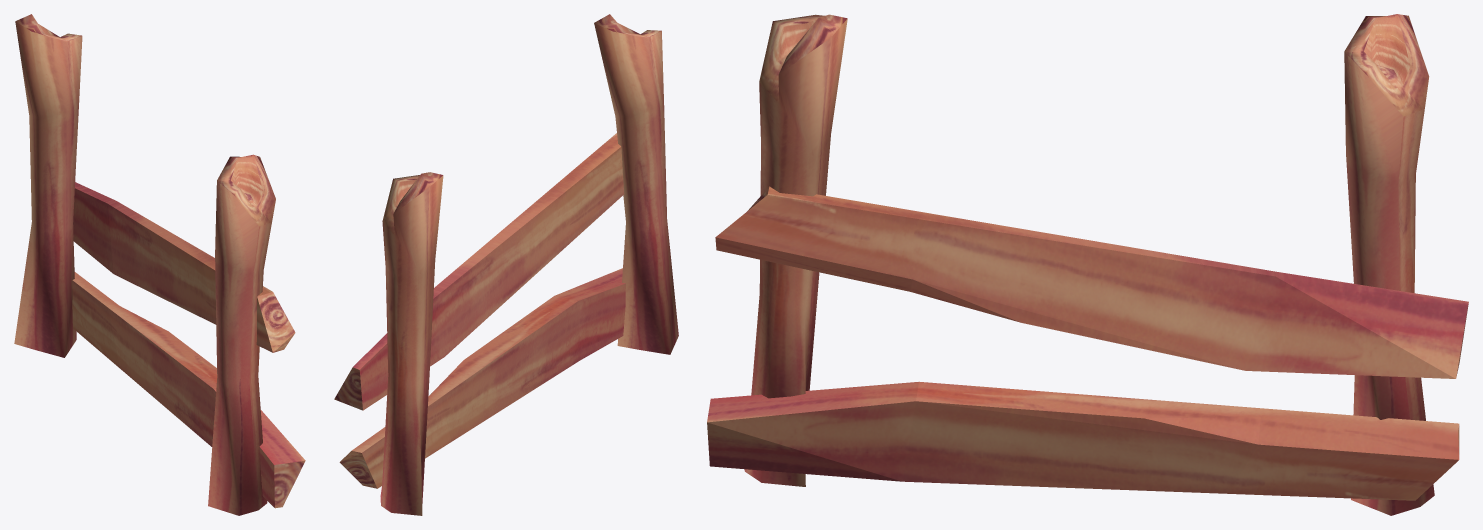
The model's file is m_fence_02.fbx.
3 views of the same model, side by side, from view 1: azimuth 30°, elevation 25°; view 2: azimuth 150°, elevation 25°; view 3: azimuth 270°, elevation 25° (orthographic). The views are drawn at different scales.
Parts seen in each view (by area): view 1: m_fence_02; view 2: m_fence_02; view 3: m_fence_02.
Boxes of the visible parts, x1,y1,x2,y2 form: m_fence_02: [14, 14, 305, 515]; m_fence_02: [334, 14, 678, 515]; m_fence_02: [707, 14, 1468, 515].
Size of the model in its own units: 32.32 by 103 by 148.
